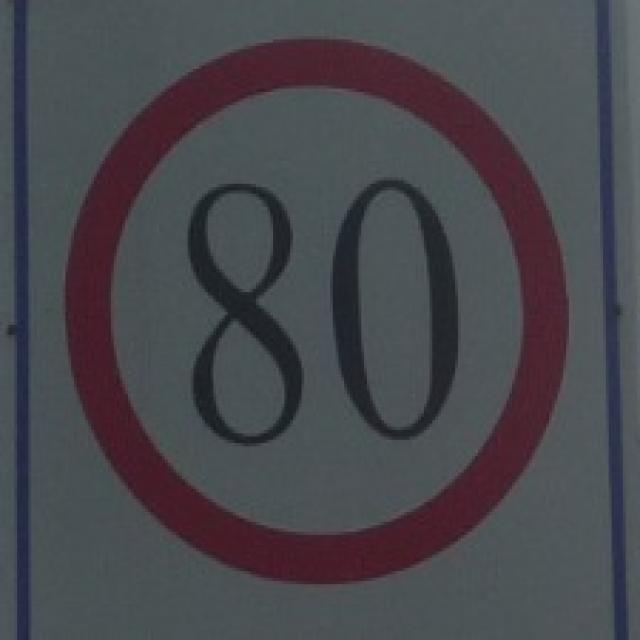Speed Limit -80-: (182, 173, 466, 452)
